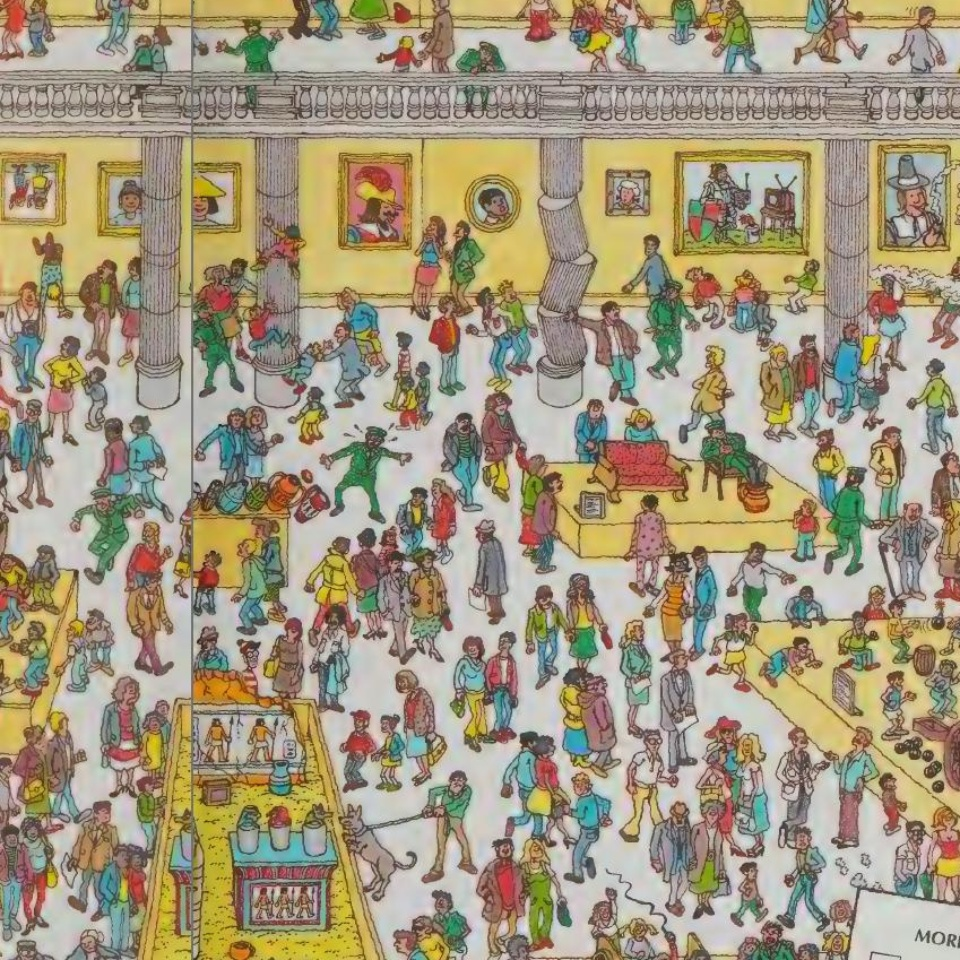waldo: (237, 640, 262, 688)
